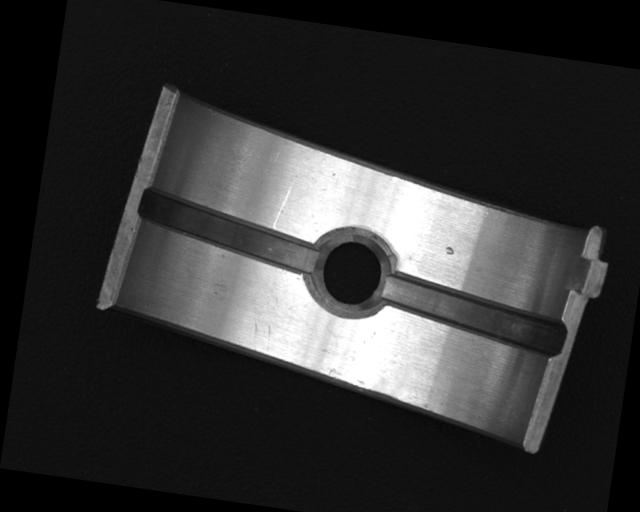bruise: (443, 245, 455, 256)
gap: (133, 186, 325, 276), (376, 273, 570, 357)
hole: (303, 221, 397, 323)
nick: (271, 182, 293, 231)
